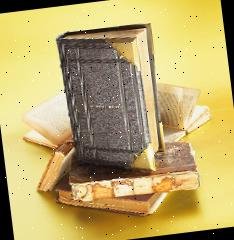paper: (54, 21, 168, 182), (18, 90, 73, 152), (30, 136, 80, 192), (156, 77, 205, 133), (159, 104, 213, 143)
